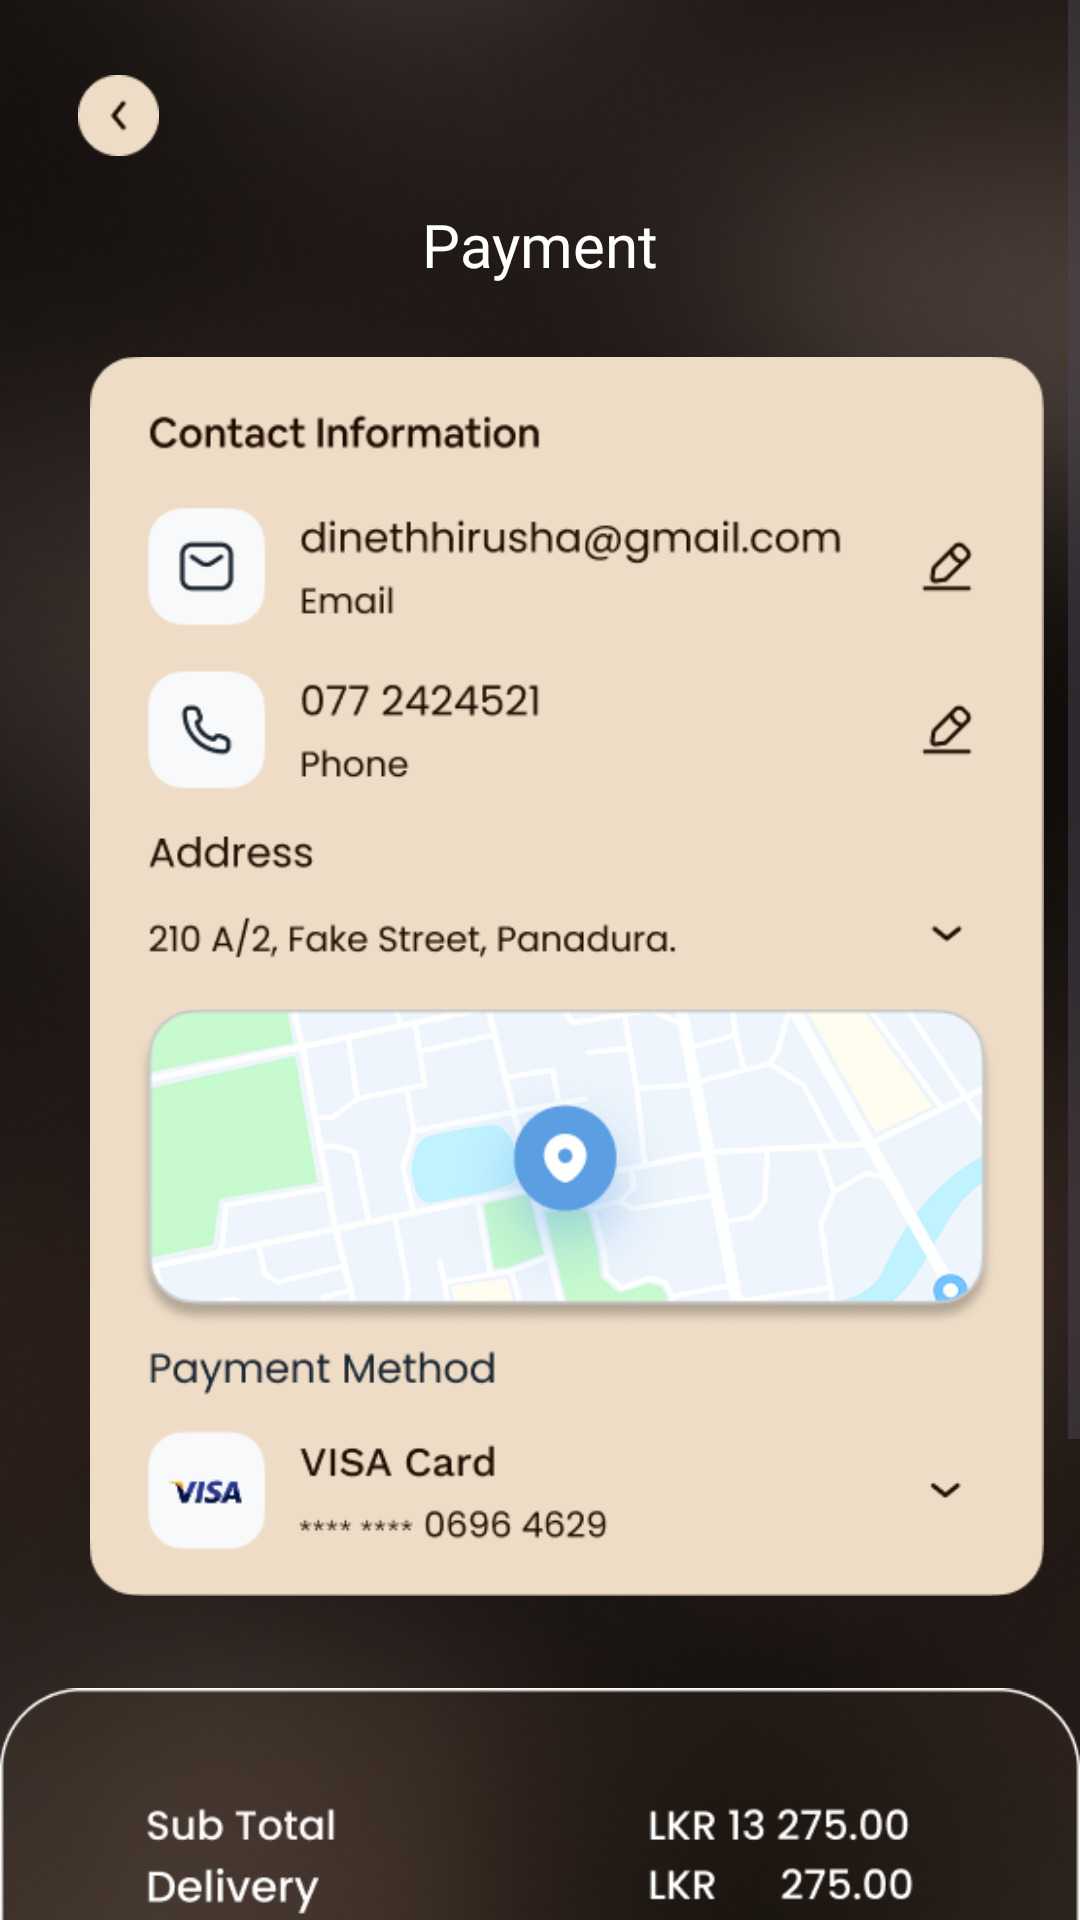

Screen size 1080×1920. Icon name, then its box in pixels as (x1, y1, x2, y2):
backpng: (78, 75, 159, 156)
